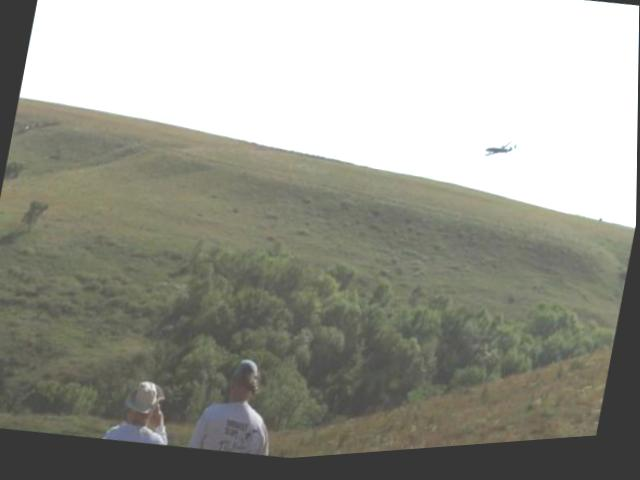iha: (481, 141, 517, 168)
